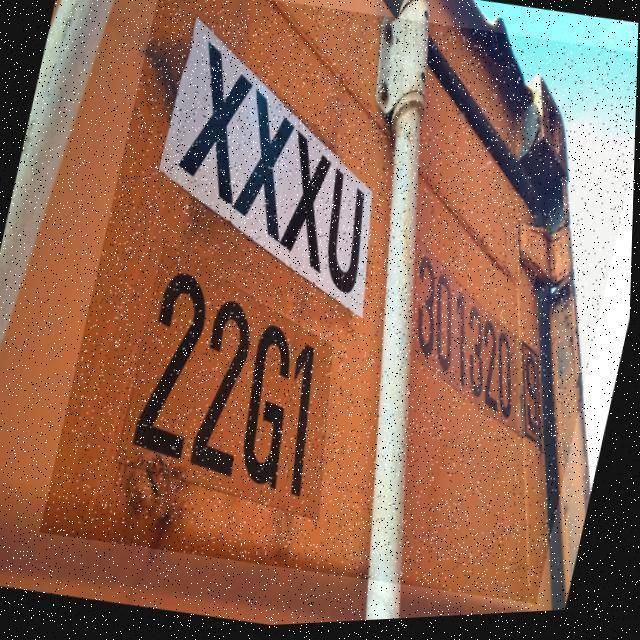container_number_h: (40, 0, 640, 630)
